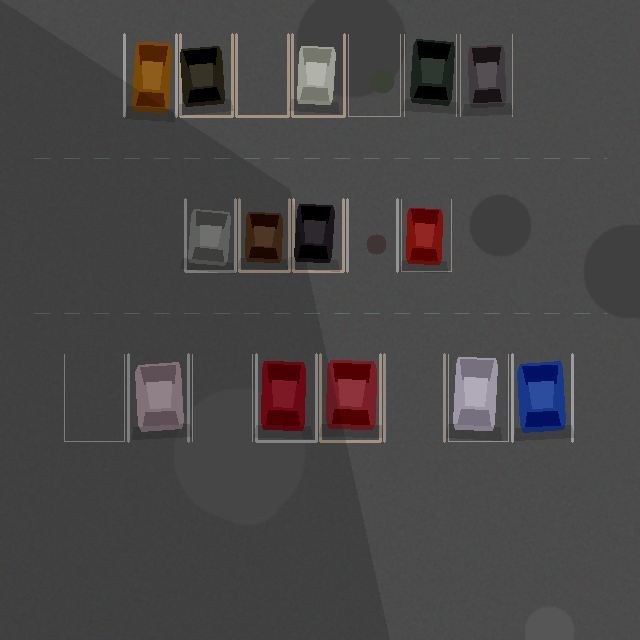space-empty: (64, 354, 124, 441), (192, 354, 252, 441), (384, 354, 444, 441), (236, 34, 288, 116), (348, 34, 400, 116), (347, 199, 397, 271)
space-occupied: (128, 354, 188, 441), (256, 354, 316, 441), (320, 354, 380, 441), (448, 354, 508, 441), (512, 354, 572, 441), (124, 34, 176, 116), (180, 34, 232, 116), (292, 34, 344, 116), (404, 34, 456, 116), (460, 34, 512, 116), (185, 199, 235, 271), (239, 199, 289, 271), (293, 199, 343, 271), (401, 199, 451, 271)
